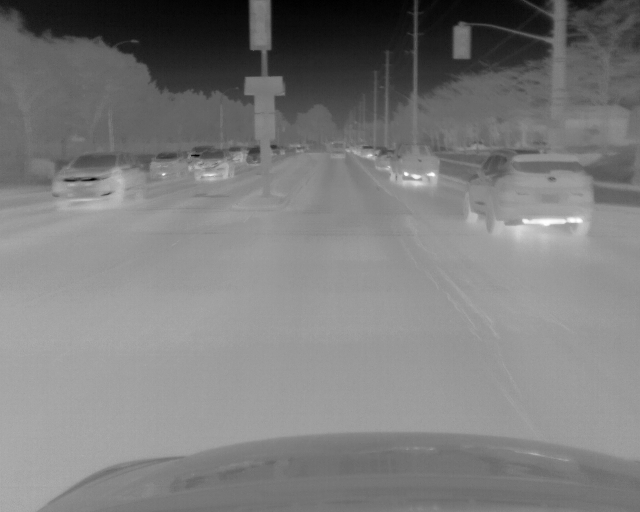car: (462, 147, 594, 240), (52, 154, 142, 205), (390, 144, 438, 185), (195, 150, 233, 181), (150, 150, 188, 179), (374, 152, 392, 169), (330, 141, 346, 158), (247, 147, 261, 164), (361, 145, 374, 159)
